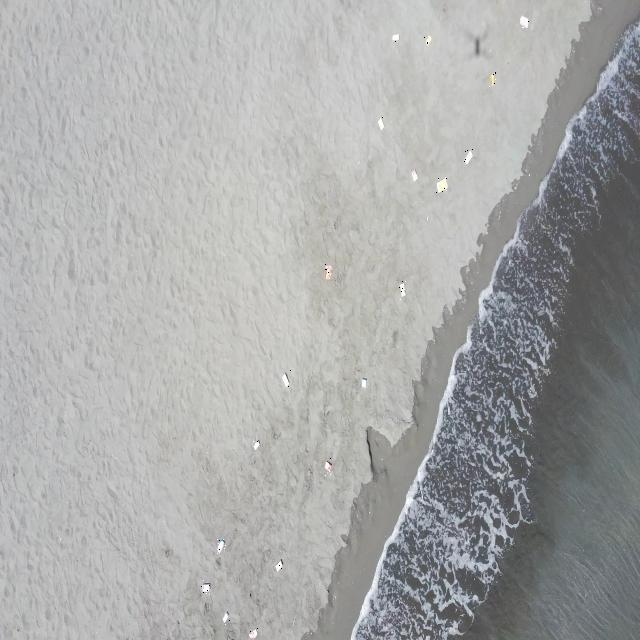retort-pouch: (436, 177, 448, 195), (281, 370, 291, 389), (324, 458, 334, 476), (324, 263, 333, 282), (464, 149, 473, 167), (216, 538, 226, 554), (201, 580, 211, 596), (399, 280, 407, 300), (274, 558, 284, 573), (520, 14, 529, 30), (248, 626, 258, 640), (222, 608, 230, 624), (410, 168, 418, 183), (253, 436, 261, 451), (391, 32, 401, 44), (378, 116, 385, 133), (489, 71, 496, 87), (424, 33, 432, 47), (361, 376, 368, 391)
